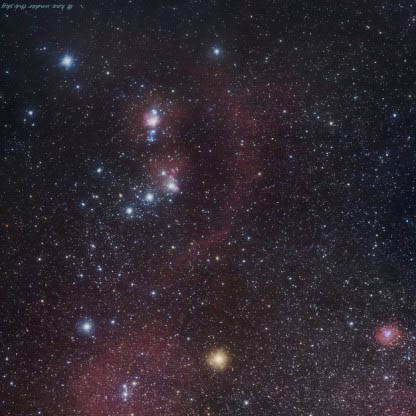Orion: (199, 343, 233, 379), (160, 165, 186, 193), (112, 199, 138, 225), (52, 49, 80, 73), (71, 318, 97, 340), (208, 41, 231, 60), (141, 185, 159, 209)
